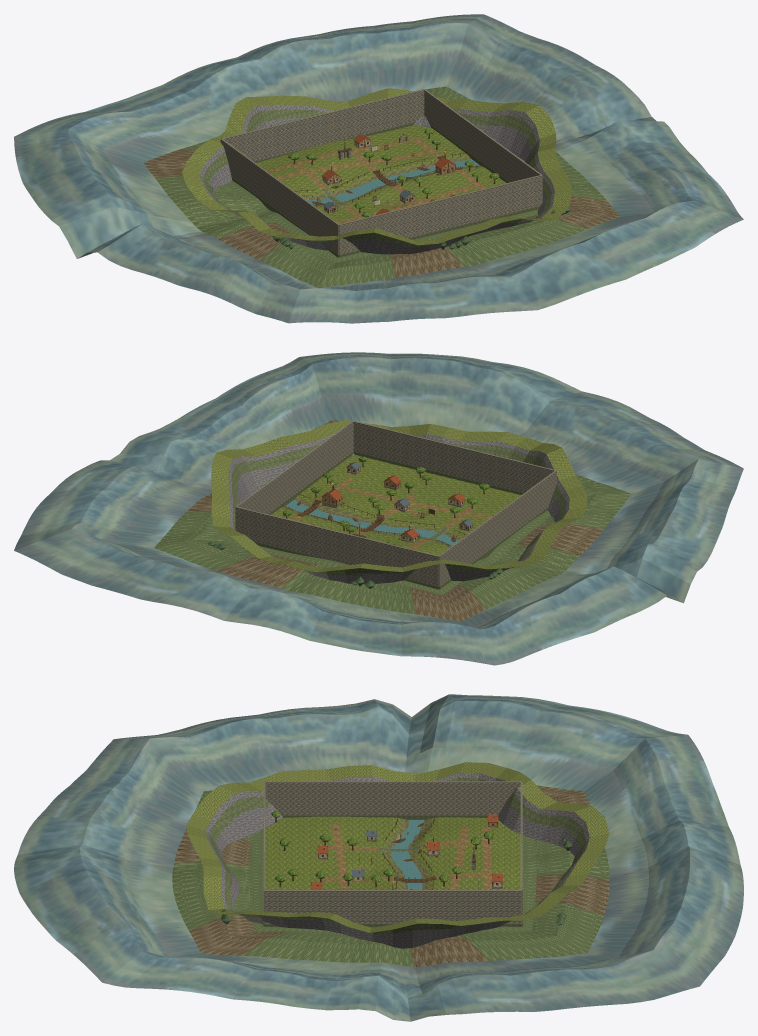
File: SillwaterEbb.fbx
3 views of the same model, one above another, from view 1: azimuth 30°, elevation 25°; view 2: azimuth 150°, elevation 25°; view 3: azimuth 270°, elevation 25° (orthographic). The views are drawn at different scales.
Visible parts, largest first — view 1: Surroundings, C_Solids, Horizon, Terrain, Set, Rim, Waterline; view 2: Surroundings, C_Solids, Horizon, Terrain, Set, Rim, Waterline; view 3: Surroundings, Horizon, C_Solids, Terrain, Set, Waterline, Rim.
Part boxes in pixels (box(x1,y1,x2,y2)): Surroundings: box(14, 14, 743, 323); C_Solids: box(220, 89, 542, 254); Horizon: box(182, 88, 572, 254); Terrain: box(256, 125, 506, 223); Set: box(288, 129, 499, 221); Rim: box(231, 122, 540, 257); Waterline: box(307, 159, 479, 205); Surroundings: box(14, 352, 743, 665); C_Solids: box(235, 421, 556, 586); Horizon: box(211, 420, 587, 583); Terrain: box(271, 455, 521, 555); Set: box(281, 456, 494, 546); Rim: box(254, 451, 548, 589); Waterline: box(285, 500, 458, 545); Surroundings: box(14, 694, 743, 1021); Horizon: box(186, 762, 609, 948); C_Solids: box(263, 781, 522, 923); Terrain: box(265, 816, 520, 889); Set: box(271, 810, 502, 889); Waterline: box(391, 820, 423, 889); Rim: box(263, 815, 522, 927).
Size of the model in its own units: 34489 by 2640 by 34345.
